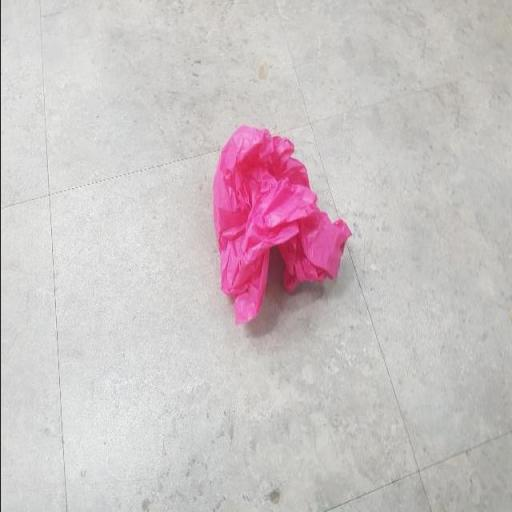plastic-bag: (207, 122, 354, 328)
